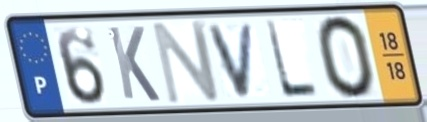6: (54, 24, 108, 107)
K: (105, 23, 163, 104)
L: (262, 18, 322, 100)
N: (149, 18, 224, 107)
O: (313, 13, 379, 102)
V: (205, 20, 257, 101)
